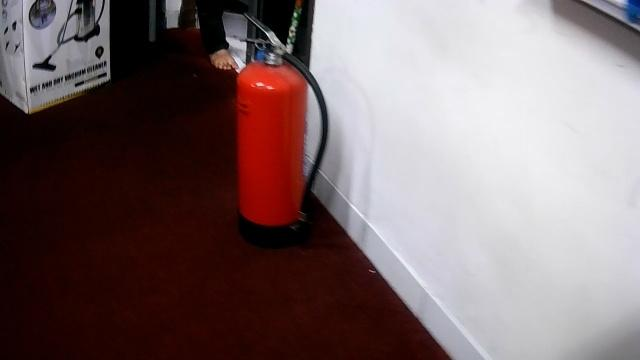APAR: (233, 11, 330, 248)
